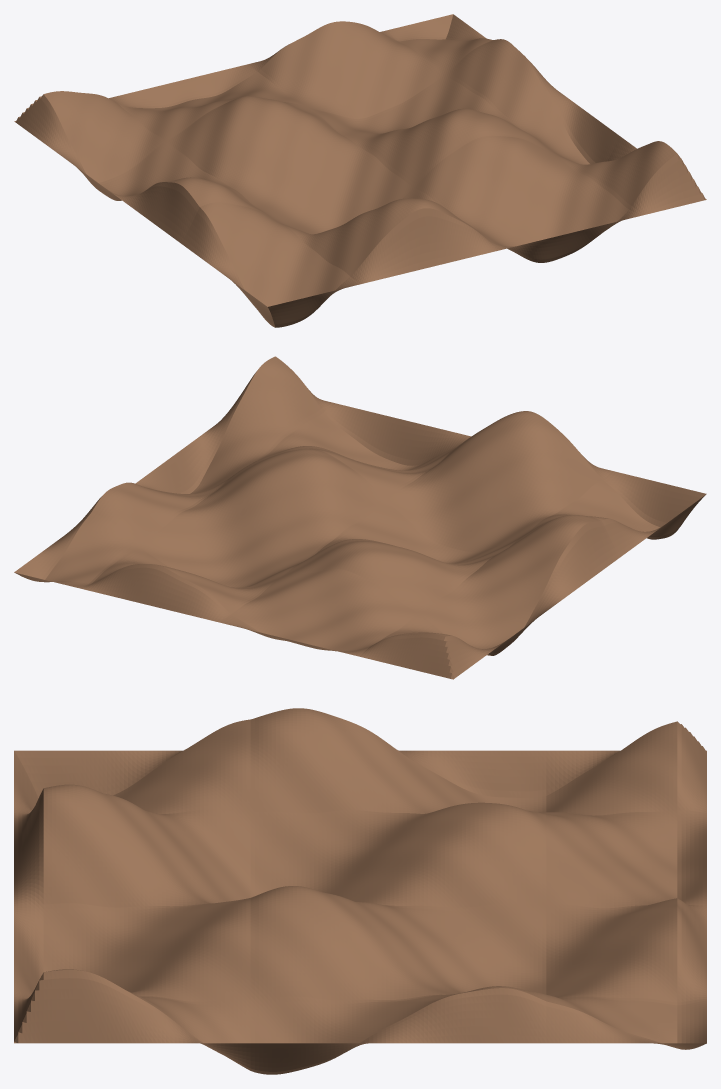
Rendered from sapphire_coral_ridge.obj.
The picture shows the model from 3 angles, top to bottom: view 1: azimuth 30°, elevation 25°; view 2: azimuth 150°, elevation 25°; view 3: azimuth 270°, elevation 25°; orthographic projection. The views are drawn at different scales.
Parts seen in each view (by area): view 1: sapphire_coral_ridge; view 2: sapphire_coral_ridge; view 3: sapphire_coral_ridge.
Part boxes in pixels (x1,y1,x2,y2): sapphire_coral_ridge: [14, 14, 706, 327]; sapphire_coral_ridge: [14, 356, 706, 679]; sapphire_coral_ridge: [14, 708, 706, 1074].
Size of the model in its own units: 160 by 30.63 by 160.
